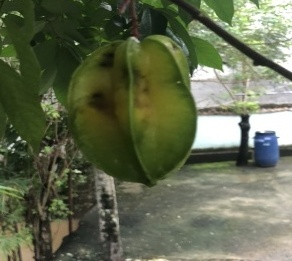Khe: (66, 35, 203, 191)
